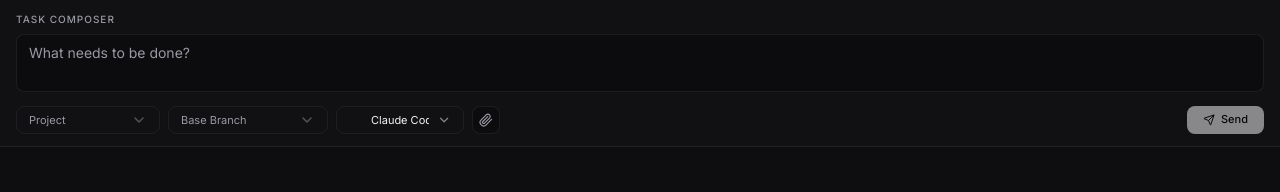
Test case: TaskComposer › shows branch error in select placeholder when gitBranches fails
The width and height of the screenshot is (1280, 192).
Click the dropdown with test id "composer-project" at (88, 120), box [16,106,160,134]
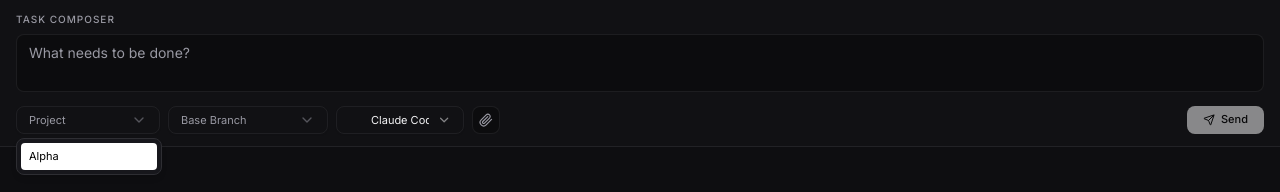
Click the option "Alpha" at (89, 157), box [21,143,157,170]
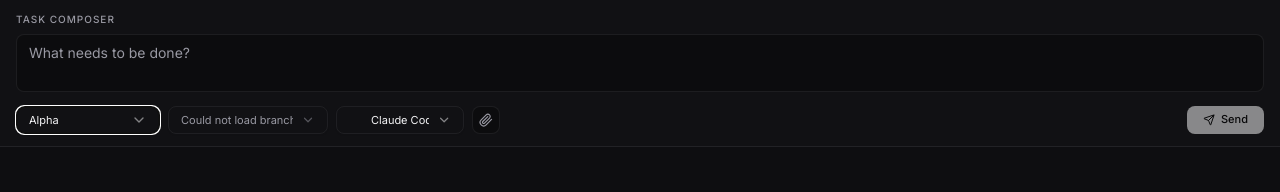
Expected: the dropdown with test id "composer-branch" reads "Could not load branches", [168,106,328,134]
